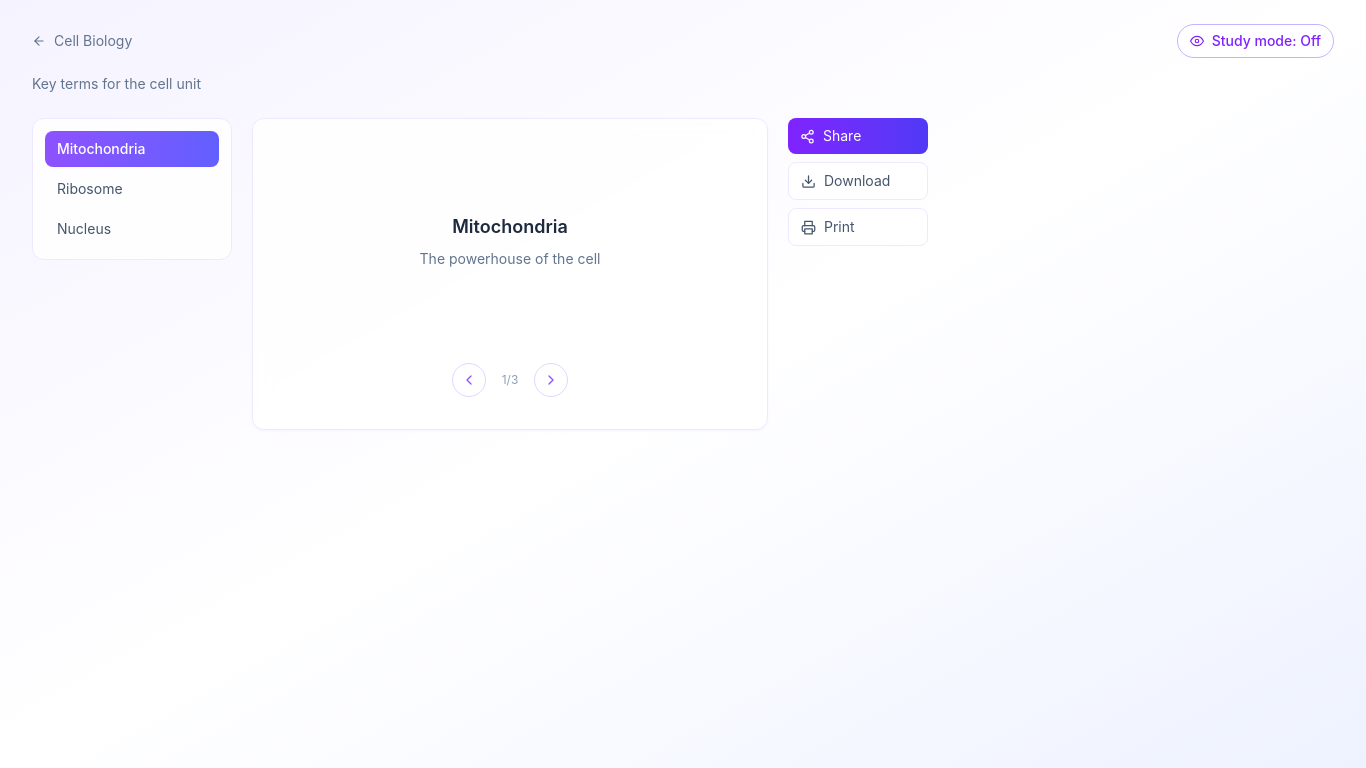
Test: FlashcardDetailsPage › navigates to the next term when the next arrow is clicked
The width and height of the screenshot is (1366, 768).
Click the button named "next term": click(551, 380) [534,363,568,397]
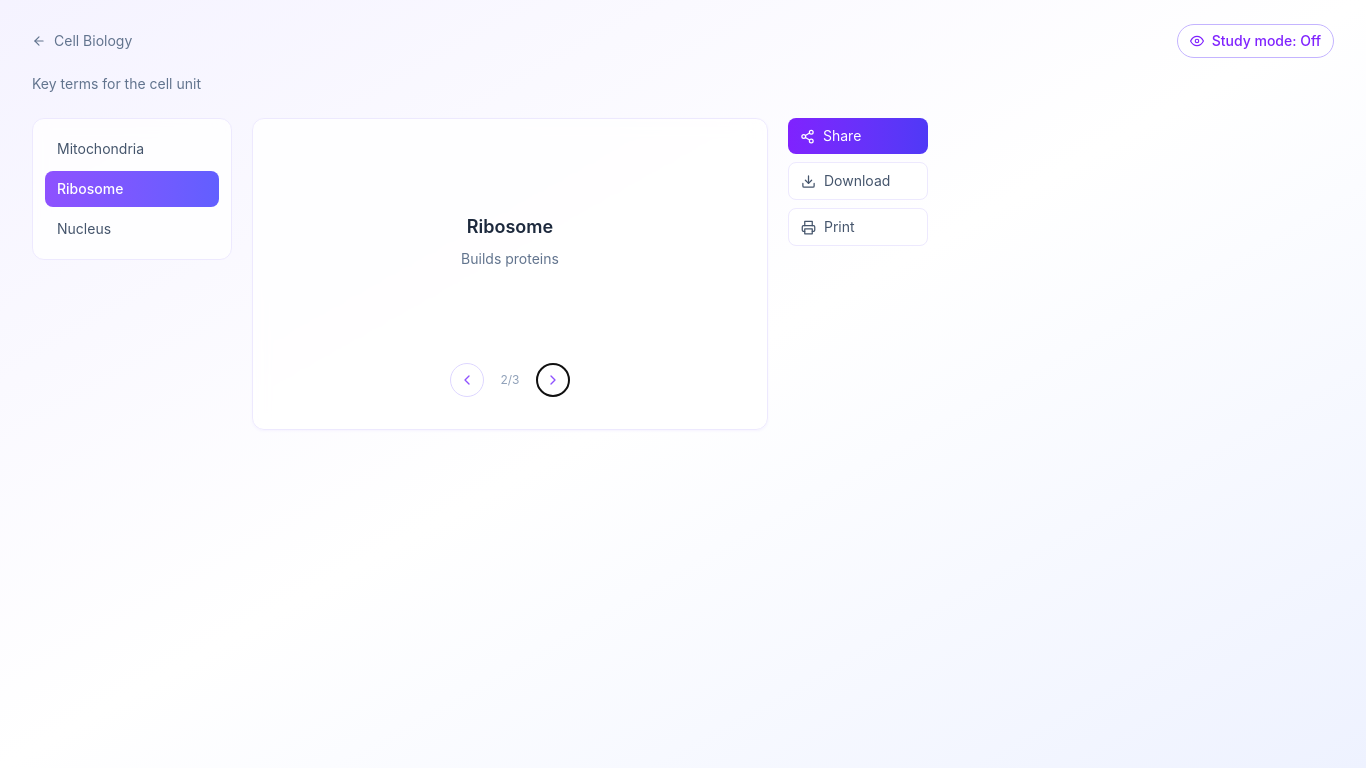
expect the text "Ribosome" is shown: met, box [467,213,553,241]
expect the text "Builds proteins" is shown: met, box [461,249,559,269]
expect the text "2/3" is shown: met, box [500,372,520,388]
